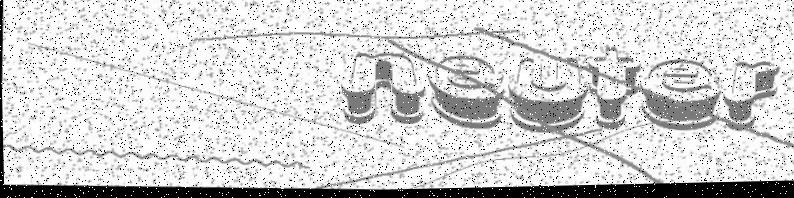e: (638, 59, 723, 135), (426, 54, 506, 134)
n: (340, 51, 428, 128)
r: (720, 61, 782, 136)
t: (586, 47, 643, 133)
u: (506, 55, 590, 138)
